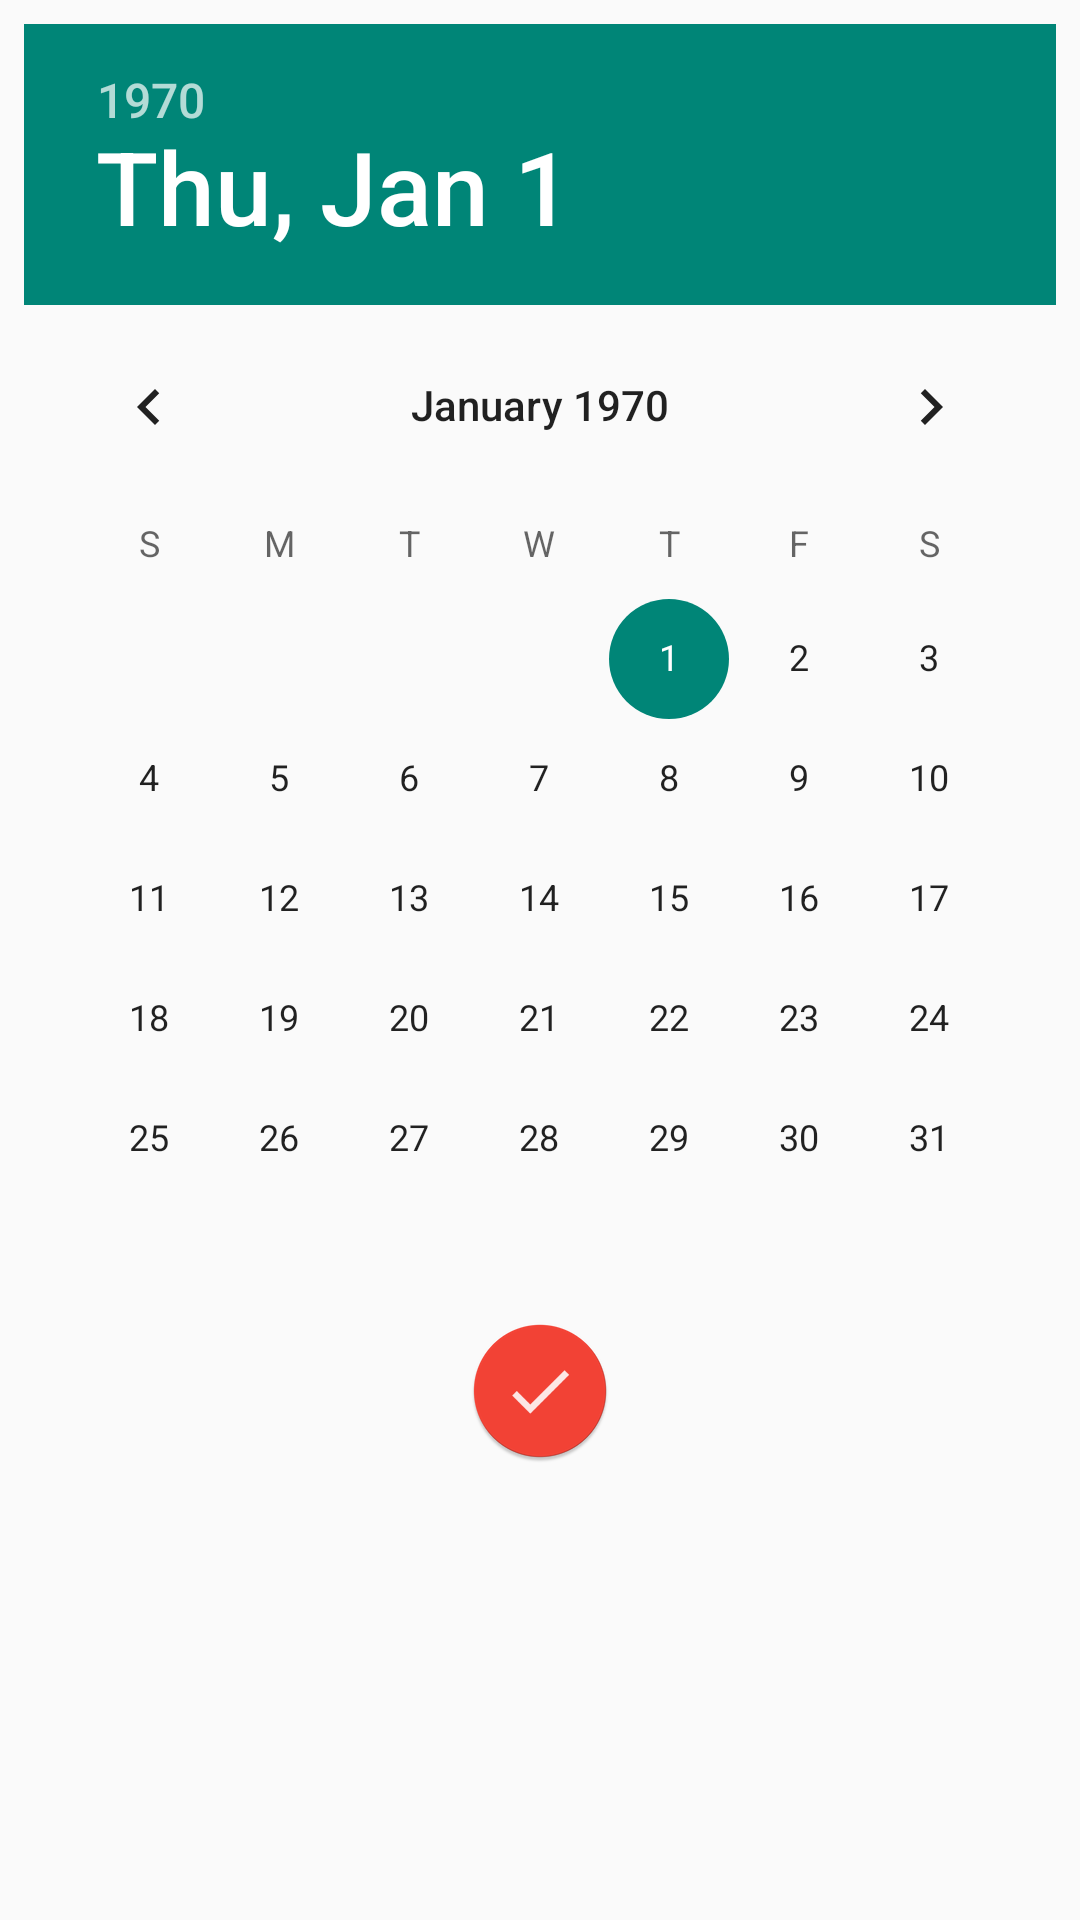

Icons on this 1080*1920 Android screen, each with the point to tap as point (x, y):
done: point (540, 1392)
